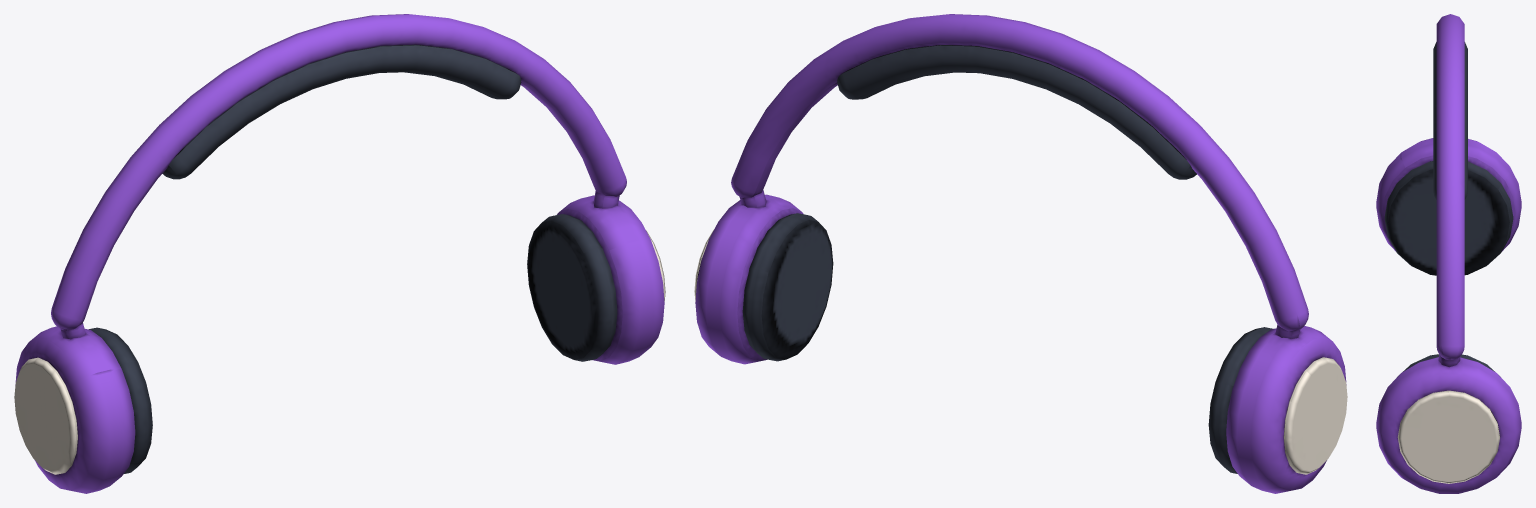
Rendered from headphones.glb.
3 views of the same model, side by side, from view 1: azimuth 30°, elevation 25°; view 2: azimuth 150°, elevation 25°; view 3: azimuth 270°, elevation 25° (orthographic). The views are drawn at different scales.
Parts seen in each view (by area): view 1: headphones; view 2: headphones; view 3: headphones.
Boxes of the visible parts, x1,y1,x2,y2 form: headphones: (14,14,665,493); headphones: (694,14,1347,493); headphones: (1376,14,1521,493).
Bounding box in the file's own units: 0.712 × 0.4536 × 0.176.
3 materials, 3 textured.
